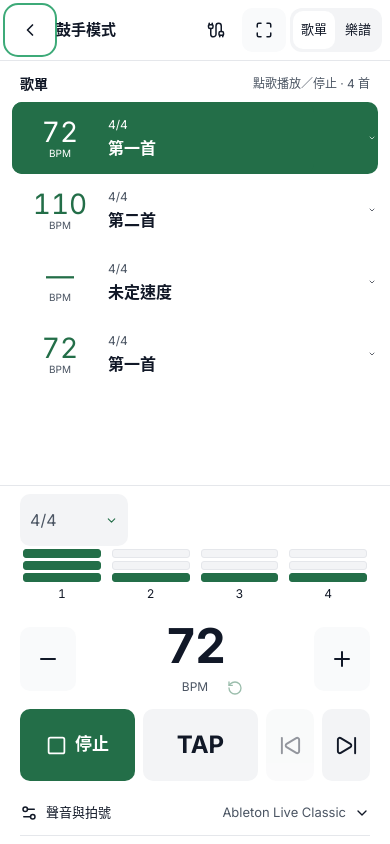
drummer session controls › enters live mode without interrupting the click and keeps chart/song selection linked
The image size is (390, 844).
Click the button named "增加 1 BPM".
click(342, 659)  # box [314,627,370,691]
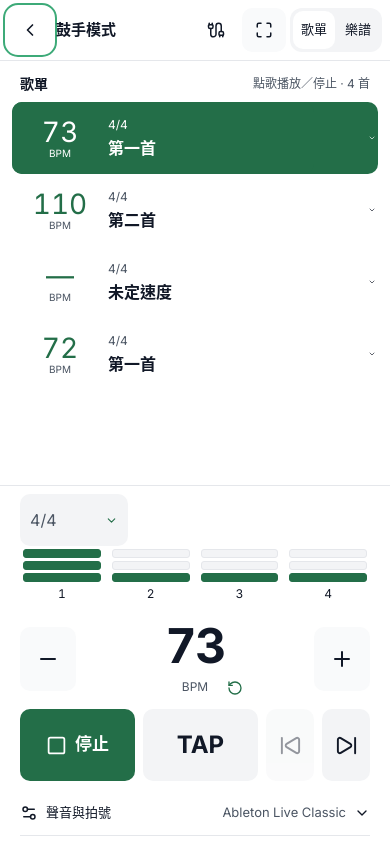
Click the button named "演出模式".
click(264, 30)  # box [242,8,286,52]
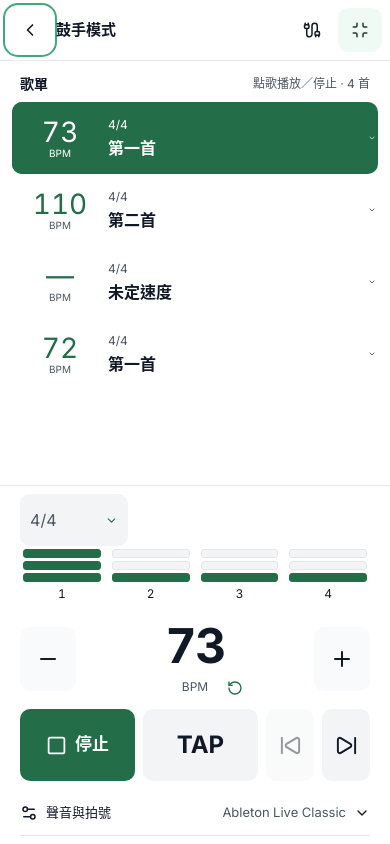
Expected: the dialog "鼓手模式" has attribute data-stage="true"
Click the button with aria-label "2 第二首".
click(60, 204)  # box [12,174,314,246]
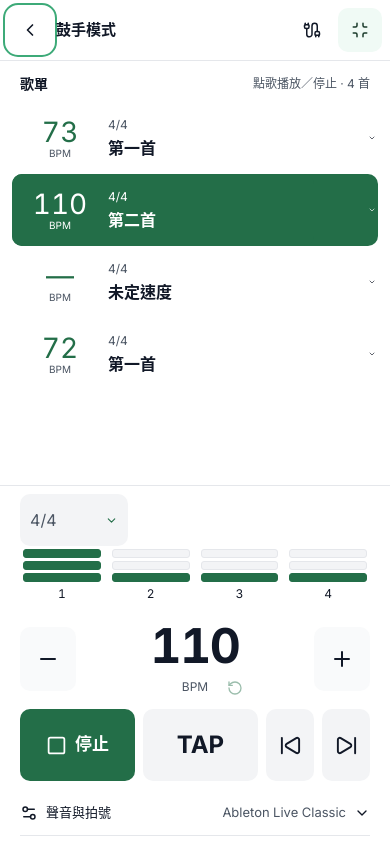
Click the button named "一般模式".
click(360, 30)  # box [338,8,382,52]
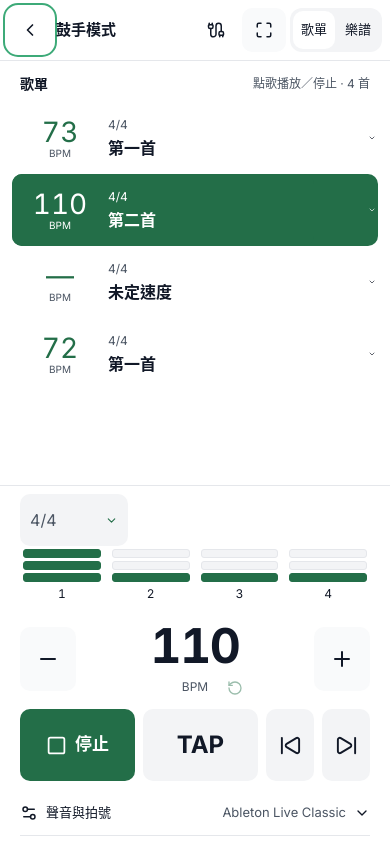
Expected: the dialog "鼓手模式" has attribute data-stage="false"
Click the button with aria-label "1 第一首".
click(60, 132)  # box [12,102,314,174]
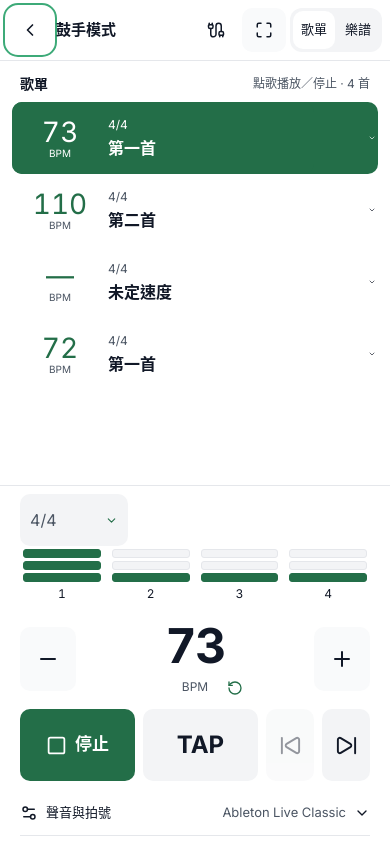
Expected: the field named "節拍器速度 BPM" holds "73", [88,620,302,673]
